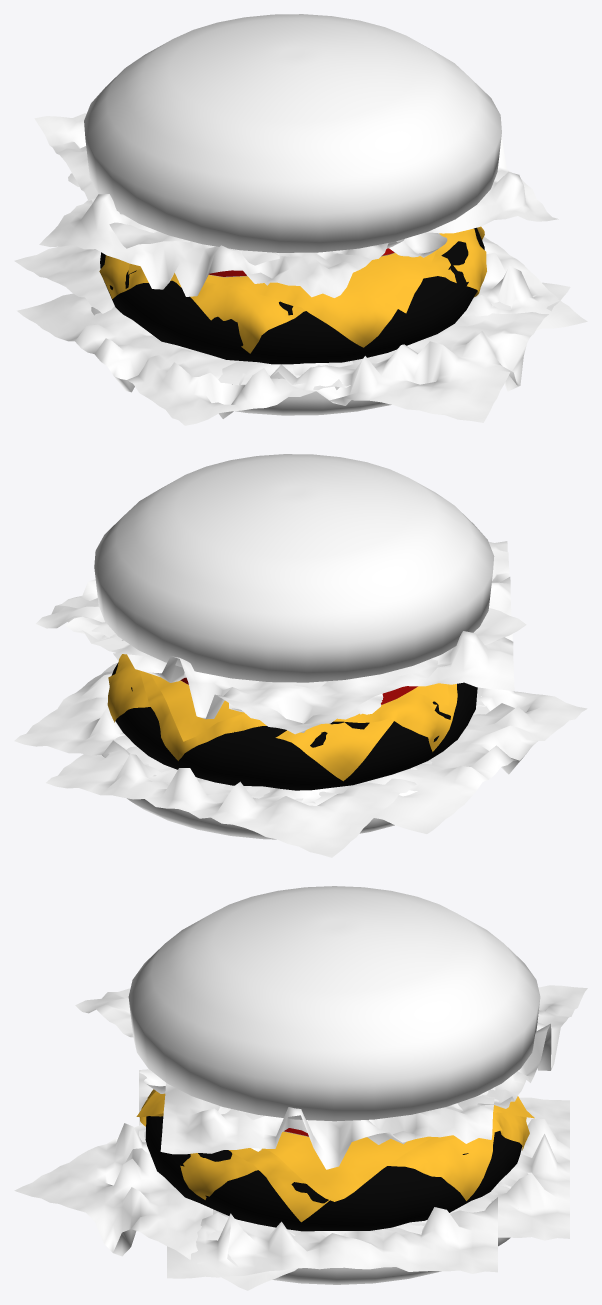
Rendered from burger.glb.
3 renders of one model, top to bottom at view 1: azimuth 30°, elevation 25°; view 2: azimuth 150°, elevation 25°; view 3: azimuth 270°, elevation 25°, orthographic. The views are drawn at different scales.
Visible parts, largest first — view 1: burger_top_bun, fresh-lettuce-one-leaf-isolated.003, burger_patty, fresh-lettuce-one-leaf-isolated, fresh-lettuce-one-leaf-isolated.005, cheese_2, cheese_1, fresh-lettuce-one-leaf-isolated.002, fresh-lettuce-one-leaf-isolated.001, fresh-lettuce-one-leaf-isolated.004, fresh-lettuce-one-leaf-isolated.006, cheese_3 (+2 smaller); view 2: burger_top_bun, fresh-lettuce-one-leaf-isolated.004, burger_patty, fresh-lettuce-one-leaf-isolated, fresh-lettuce-one-leaf-isolated.006, cheese_2, fresh-lettuce-one-leaf-isolated.005, fresh-lettuce-one-leaf-isolated.002, cheese_1, cheese_3, burger_bot_bun, fresh-lettuce-one-leaf-isolated.001; view 3: burger_top_bun, fresh-lettuce-one-leaf-isolated.002, burger_patty, fresh-lettuce-one-leaf-isolated.003, fresh-lettuce-one-leaf-isolated.001, fresh-lettuce-one-leaf-isolated.004, cheese_3, cheese_1, fresh-lettuce-one-leaf-isolated.006, cheese_2, burger_bot_bun, fresh-lettuce-one-leaf-isolated.005.
Part boxes in pixels (bbox=[...]): burger_top_bun: bbox=[84, 14, 501, 252]; fresh-lettuce-one-leaf-isolated.003: bbox=[188, 282, 570, 422]; burger_patty: bbox=[100, 227, 484, 364]; fresh-lettuce-one-leaf-isolated: bbox=[17, 293, 353, 425]; fresh-lettuce-one-leaf-isolated.005: bbox=[39, 194, 404, 297]; cheese_2: bbox=[99, 226, 484, 347]; cheese_1: bbox=[173, 228, 486, 353]; fresh-lettuce-one-leaf-isolated.002: bbox=[462, 236, 587, 330]; fresh-lettuce-one-leaf-isolated.001: bbox=[241, 137, 558, 265]; fresh-lettuce-one-leaf-isolated.004: bbox=[14, 245, 151, 335]; fresh-lettuce-one-leaf-isolated.006: bbox=[34, 113, 190, 248]; cheese_3: bbox=[128, 233, 447, 313]; burger_top_bun: bbox=[94, 454, 494, 682]; fresh-lettuce-one-leaf-isolated.004: bbox=[46, 733, 431, 857]; burger_patty: bbox=[111, 662, 477, 790]; fresh-lettuce-one-leaf-isolated: bbox=[355, 687, 587, 833]; fresh-lettuce-one-leaf-isolated.006: bbox=[65, 608, 526, 734]; cheese_2: bbox=[139, 670, 457, 760]; fresh-lettuce-one-leaf-isolated.005: bbox=[184, 541, 514, 690]; fresh-lettuce-one-leaf-isolated.002: bbox=[14, 663, 196, 778]; cheese_1: bbox=[107, 654, 393, 781]; cheese_3: bbox=[151, 674, 448, 741]; burger_bot_bun: bbox=[102, 753, 432, 839]; fresh-lettuce-one-leaf-isolated.001: bbox=[36, 579, 327, 690]; burger_top_bun: bbox=[128, 886, 540, 1121]; fresh-lettuce-one-leaf-isolated.002: bbox=[167, 1184, 497, 1278]; burger_patty: bbox=[145, 1116, 522, 1231]; fresh-lettuce-one-leaf-isolated.003: bbox=[14, 1123, 297, 1290]; fresh-lettuce-one-leaf-isolated.001: bbox=[160, 1083, 495, 1169]; fresh-lettuce-one-leaf-isolated.004: bbox=[391, 1097, 569, 1240]; cheese_3: bbox=[136, 1091, 534, 1201]; cheese_1: bbox=[180, 1132, 494, 1200]; fresh-lettuce-one-leaf-isolated.006: bbox=[449, 985, 587, 1110]; cheese_2: bbox=[139, 1089, 529, 1222]; burger_bot_bun: bbox=[272, 1172, 531, 1284]; fresh-lettuce-one-leaf-isolated.005: bbox=[75, 988, 265, 1120].
Bounding box in the file's own units: 4.98 × 2.96 × 5.29.
